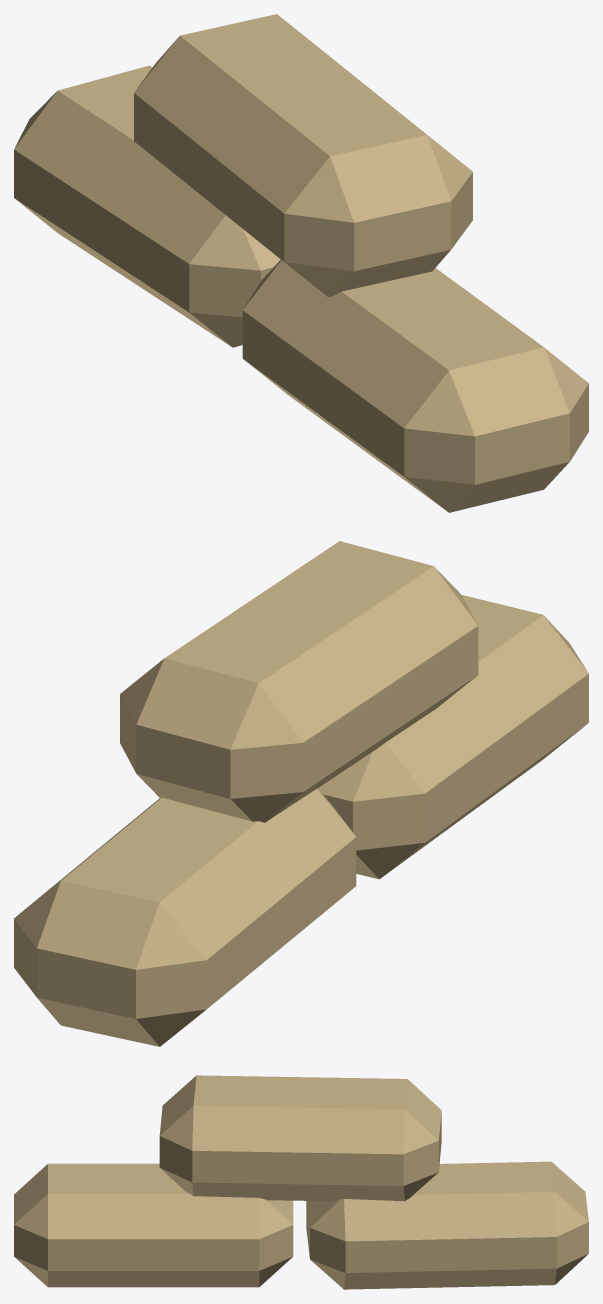
Rendered from SniperKit6.obj.
3 views of the same model, one above another, from view 1: azimuth 30°, elevation 25°; view 2: azimuth 150°, elevation 25°; view 3: azimuth 270°, elevation 25° (orthographic). The views are drawn at different scales.
Parts seen in each view (by area): view 1: SniperKit6; view 2: SniperKit6; view 3: SniperKit6.
Part boxes in pixels (<box>): SniperKit6: <box>14,14,588,512</box>; SniperKit6: <box>14,541,588,1046</box>; SniperKit6: <box>14,1075,588,1289</box>.
Size of the model in its own units: 0.2041 by 0.27 by 0.7822.
